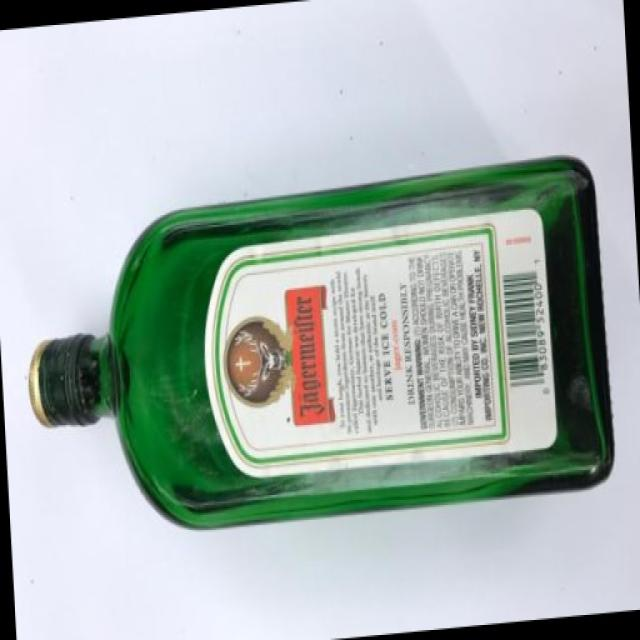vidrio: (15, 114, 640, 588)
